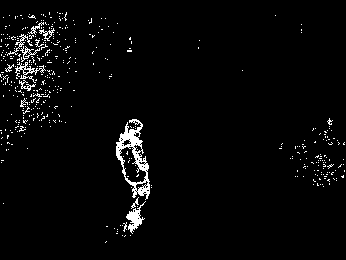person: (113, 117, 152, 232)
